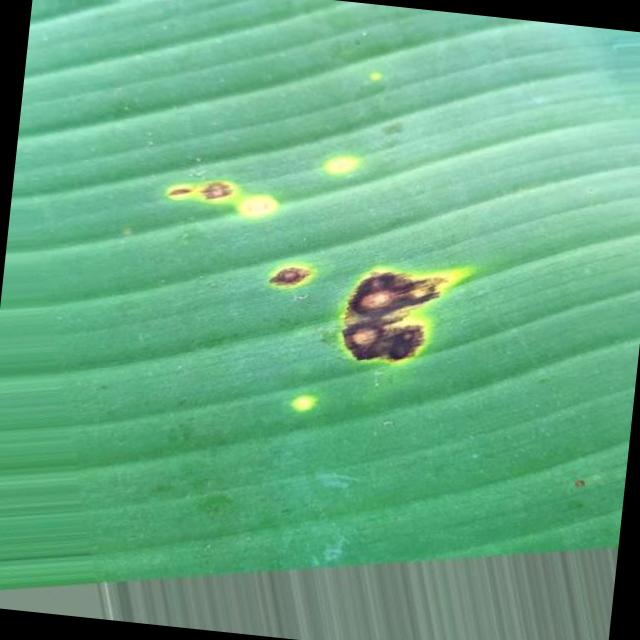Banana_Black_Sigatoka: (168, 96, 490, 392)
